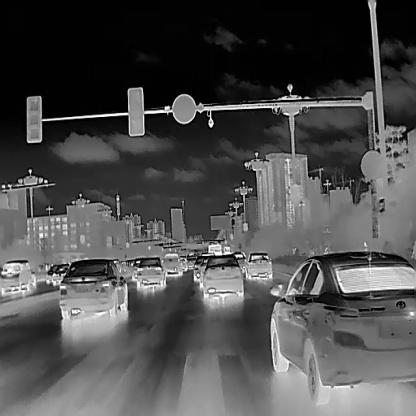bus: (206, 242, 221, 255), (222, 245, 230, 254)
car: (268, 249, 414, 406), (57, 258, 127, 320), (202, 254, 244, 298), (0, 259, 36, 296), (136, 256, 165, 289), (244, 251, 272, 281), (162, 252, 182, 276), (51, 263, 69, 286), (192, 254, 206, 282), (132, 256, 147, 279), (44, 263, 59, 285), (231, 250, 246, 270), (178, 254, 187, 271), (112, 258, 122, 273), (186, 254, 196, 269)
